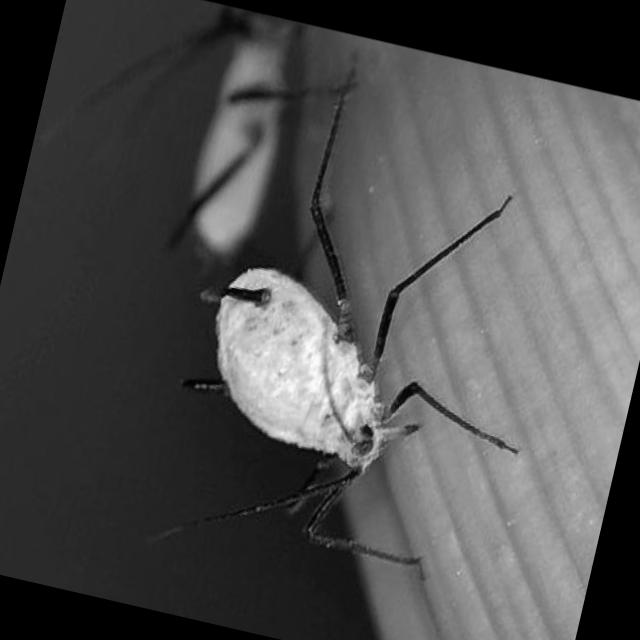Aphids: (138, 86, 562, 604)
